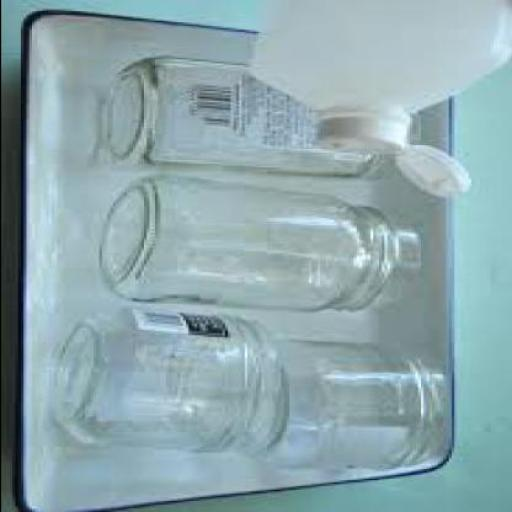glass: (104, 173, 422, 309), (104, 54, 392, 175), (58, 306, 280, 450), (266, 341, 453, 469)
plastic: (254, 0, 510, 196), (316, 106, 412, 155), (397, 145, 473, 192)
